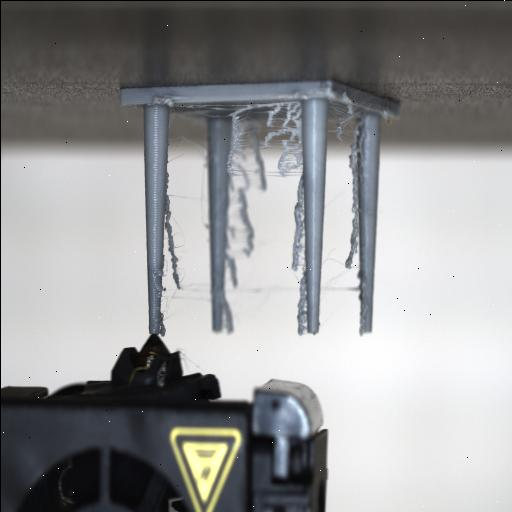stringing: (167, 104, 349, 333)
